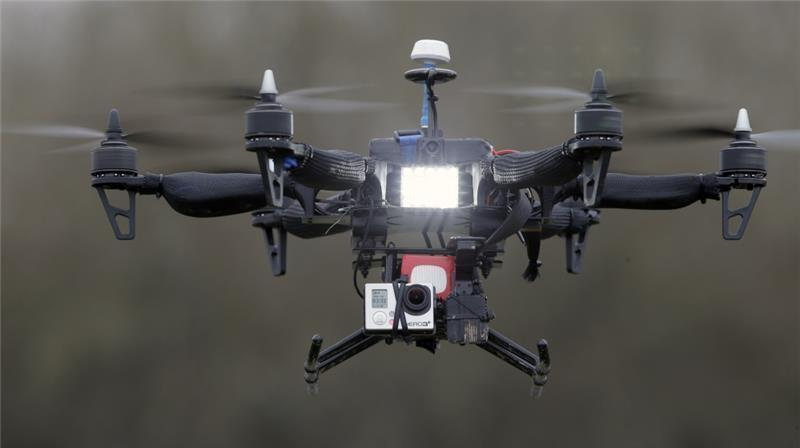UAV: (90, 37, 772, 398)
